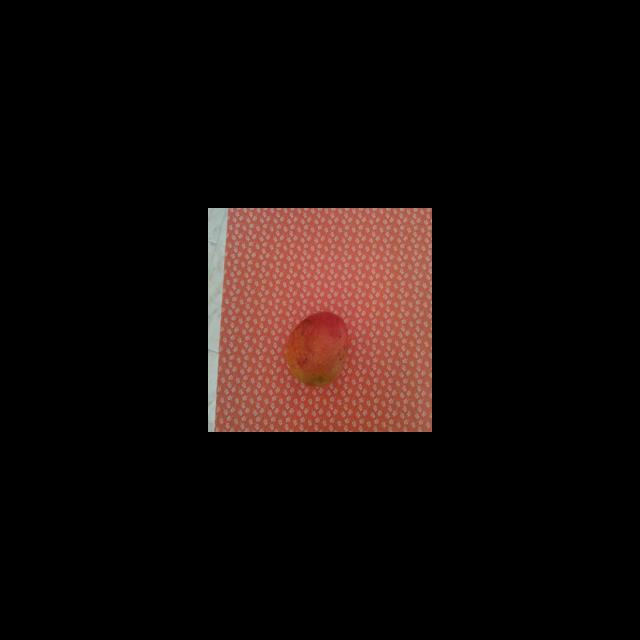Mango: (213, 208, 431, 431), (284, 310, 348, 386)
